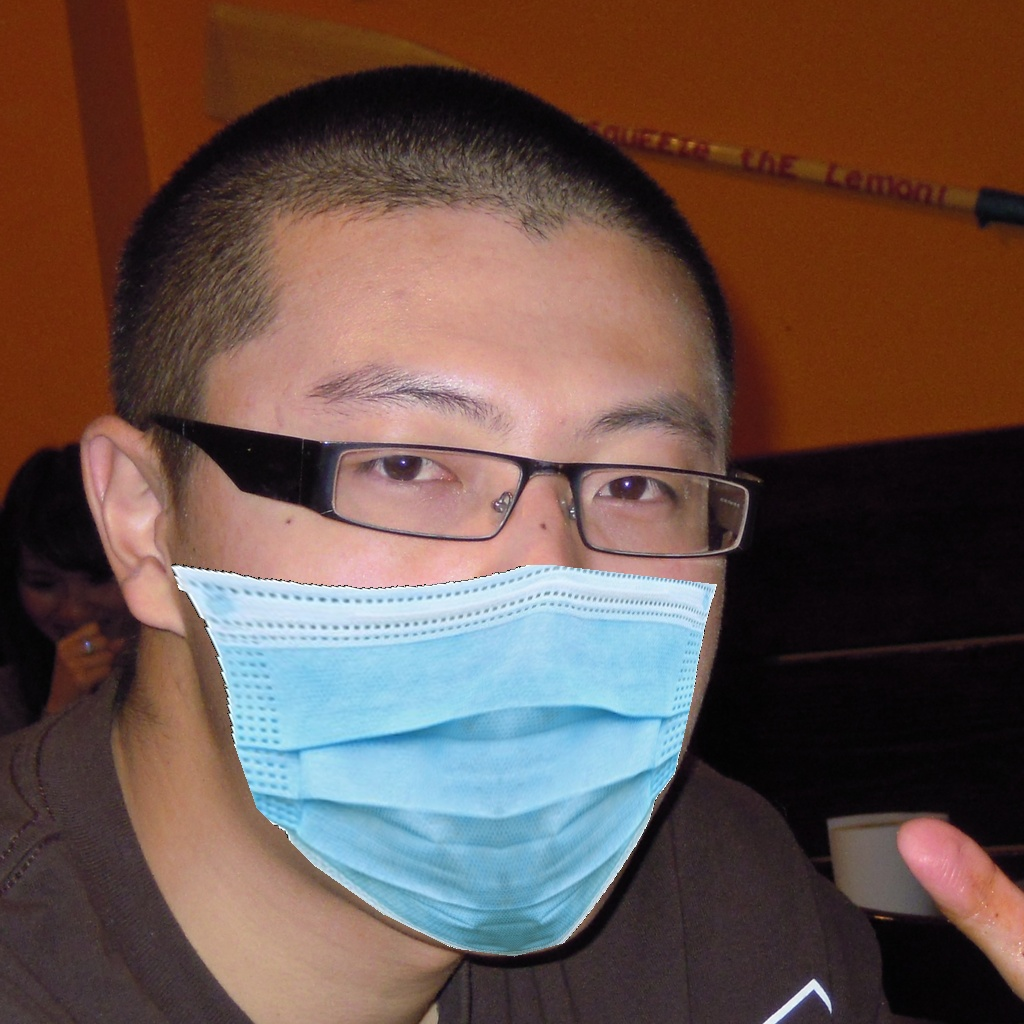Mask: (164, 376, 728, 954)
